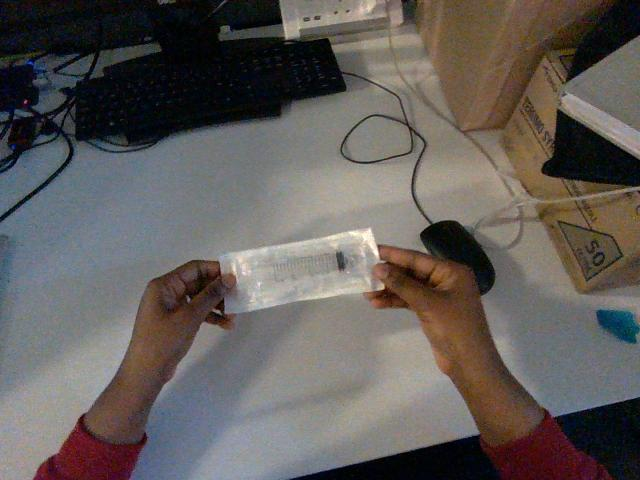syringe: (219, 229, 383, 312)
